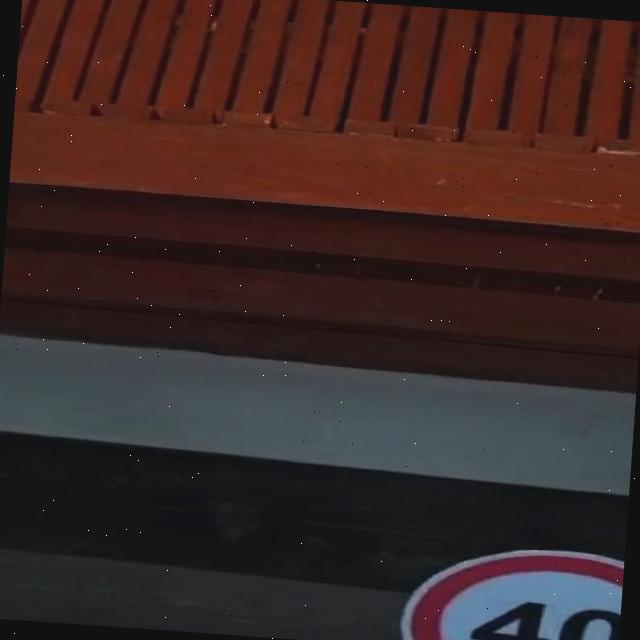Speed40: (377, 528, 625, 640)
